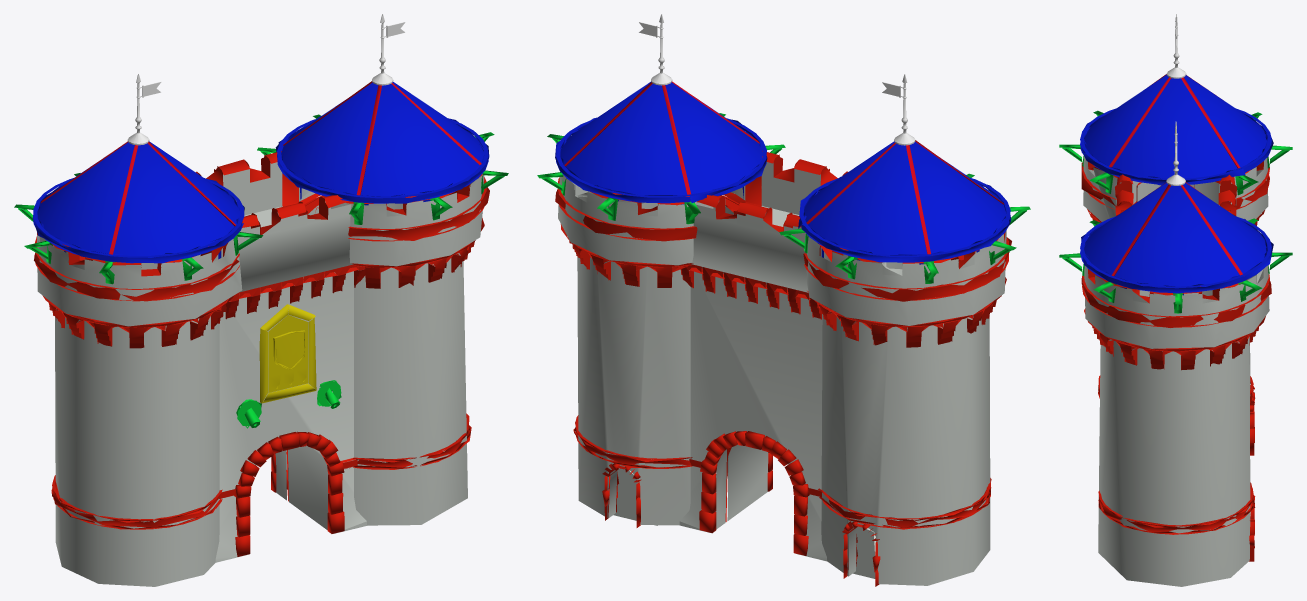
Rendered from Goal (2).fbx.
3 renders of one model, left to right at view 1: azimuth 30°, elevation 25°; view 2: azimuth 150°, elevation 25°; view 3: azimuth 270°, elevation 25°, orthographic. The views are drawn at different scales.
Visible parts, largest first — view 1: a.007, Group_4.012, Group_4.011, Group_4.007; view 2: a.007, Group_4.012, Group_4.011, Group_4.007; view 3: a.007, Group_4.012, Group_4.007, Group_4.011.
Boxes of the visible parts, x1=… form: a.007: x1=34, y1=151, x2=489, y2=586; Group_4.012: x1=14, y1=81, x2=508, y2=284; Group_4.011: x1=127, y1=74, x2=161, y2=145; Group_4.007: x1=372, y1=14, x2=405, y2=85; a.007: x1=555, y1=151, x2=1011, y2=586; Group_4.012: x1=537, y1=81, x2=1030, y2=283; Group_4.011: x1=882, y1=74, x2=915, y2=145; Group_4.007: x1=639, y1=14, x2=672, y2=85; a.007: x1=1081, y1=156, x2=1271, y2=586; Group_4.012: x1=1059, y1=74, x2=1292, y2=313; Group_4.007: x1=1166, y1=121, x2=1185, y2=185; Group_4.011: x1=1166, y1=14, x2=1186, y2=78.
Bounding box in the file's own units: 2096 × 2079 × 1001.
